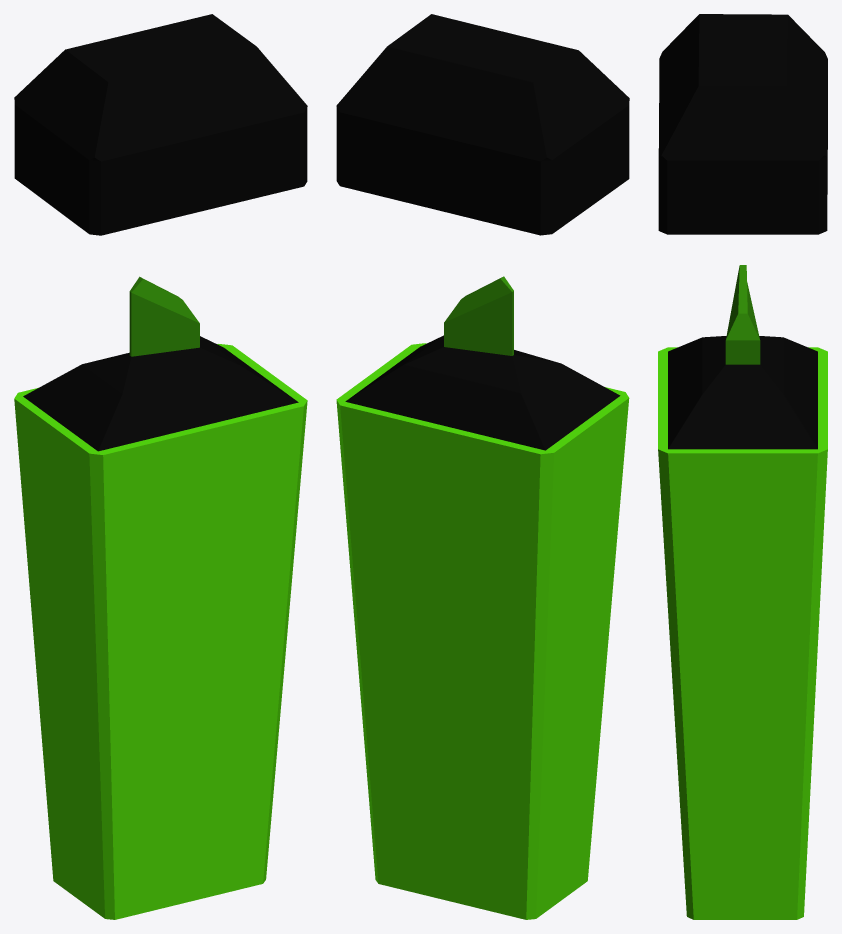
Rendered from Stabilu_v1.1.fbx.
3 renders of one model, left to right at view 1: azimuth 30°, elevation 25°; view 2: azimuth 150°, elevation 25°; view 3: azimuth 270°, elevation 25°, orthographic.
Visible parts, largest first — view 1: pCube1, pCube2; view 2: pCube1, pCube2; view 3: pCube1, pCube2.
Part boxes in pixels (x1=…): pCube1: x1=14, y1=276, x2=307, y2=919; pCube2: x1=14, y1=14, x2=307, y2=235; pCube1: x1=336, y1=276, x2=629, y2=919; pCube2: x1=336, y1=14, x2=629, y2=235; pCube1: x1=658, y1=265, x2=827, y2=919; pCube2: x1=658, y1=14, x2=827, y2=234.
Size of the model in its own units: 2.51 by 9.15 by 1.7.
